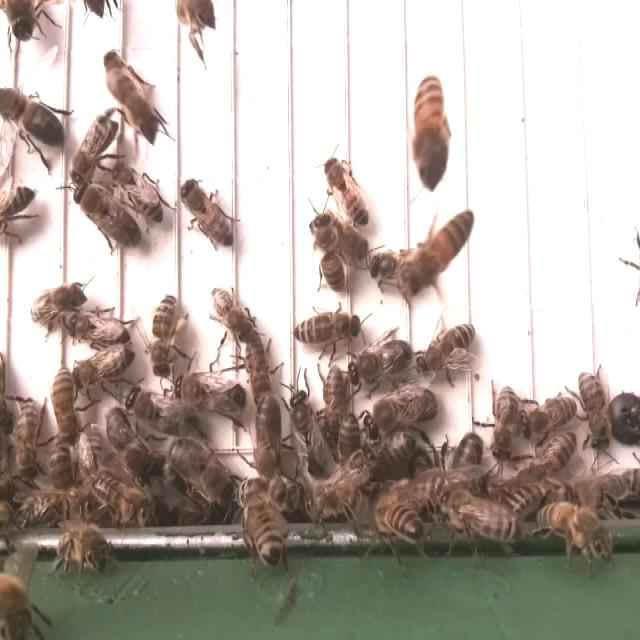Drone: (72, 176, 145, 253), (168, 434, 238, 511), (0, 83, 69, 154), (285, 385, 332, 485), (362, 385, 441, 442), (125, 383, 199, 443), (174, 370, 248, 426), (346, 335, 414, 390)
Worker: (402, 209, 474, 294), (411, 74, 449, 191), (179, 175, 238, 250), (321, 154, 372, 227), (413, 321, 477, 378), (68, 115, 122, 179), (310, 208, 346, 296), (576, 369, 613, 454), (291, 309, 362, 351), (72, 347, 139, 390), (150, 291, 182, 378), (520, 394, 581, 439), (27, 282, 83, 329), (244, 323, 274, 410), (211, 282, 254, 342), (62, 311, 133, 346), (14, 395, 41, 487), (494, 381, 521, 463), (50, 366, 79, 440)
